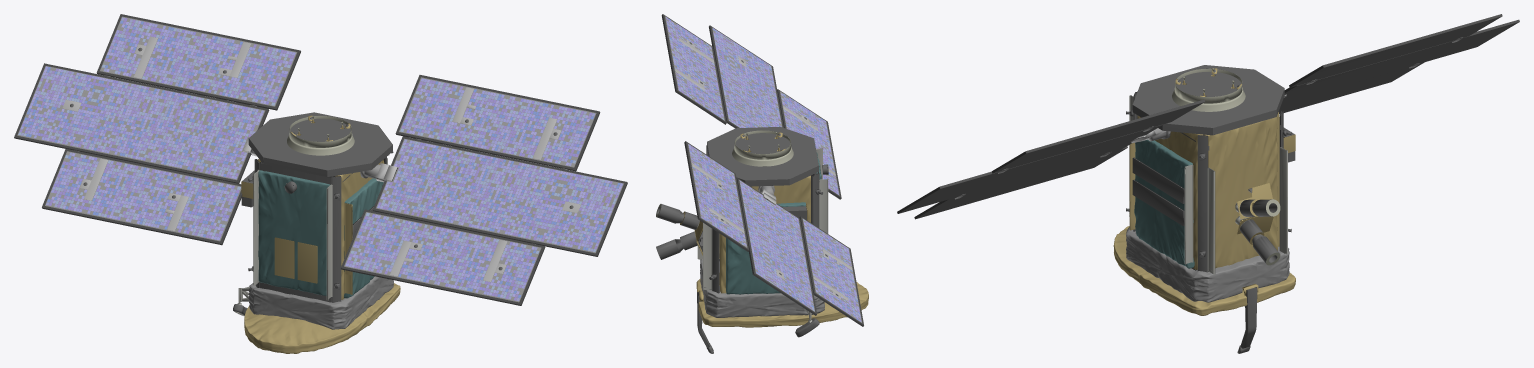
The model's file is satellite3.glb.
The picture shows the model from 3 angles, left to right: view 1: azimuth 30°, elevation 25°; view 2: azimuth 150°, elevation 25°; view 3: azimuth 270°, elevation 25°; orthographic projection. The views are drawn at different scales.
Visible parts, largest first — view 1: node_id29, node_id37, node_id35, node_id41, node_id43, node_id39, node_id26, node_id33, node_id45, node_id5, node_id14, node_id31 (+7 smaller); view 2: node_id5, node_id29, node_id37, node_id35, node_id41, node_id26, node_id43, node_id39, node_id33, node_id45, node_id7, node_id31 (+7 smaller); view 3: node_id26, node_id5, node_id12, node_id7, node_id14, node_id18, node_id10, node_id16, node_id20.
Boxes of the visible parts, x1,y1,x2,y2 form: node_id29: [17, 16, 623, 302]; node_id37: [22, 18, 617, 299]; node_id35: [20, 23, 622, 294]; node_id41: [19, 18, 618, 300]; node_id43: [21, 17, 619, 301]; node_id39: [24, 20, 620, 297]; node_id26: [14, 14, 627, 305]; node_id33: [25, 21, 621, 297]; node_id45: [18, 20, 616, 298]; node_id5: [70, 47, 573, 315]; node_id14: [258, 170, 383, 298]; node_id31: [22, 28, 611, 290]; node_id5: [656, 42, 838, 353]; node_id29: [665, 16, 861, 322]; node_id37: [666, 19, 860, 319]; node_id35: [668, 24, 859, 315]; node_id41: [666, 18, 861, 320]; node_id26: [661, 14, 863, 326]; node_id43: [666, 17, 861, 321]; node_id39: [667, 19, 859, 320]; node_id33: [667, 21, 860, 317]; node_id45: [667, 22, 860, 316]; node_id7: [700, 260, 824, 317]; node_id31: [670, 25, 856, 313]; node_id26: [897, 14, 1519, 219]; node_id5: [1126, 65, 1295, 353]; node_id12: [1137, 112, 1279, 269]; node_id7: [1126, 227, 1289, 302]; node_id14: [1134, 139, 1194, 268]; node_id18: [1129, 70, 1287, 274]; node_id10: [1113, 226, 1295, 315]; node_id16: [1129, 68, 1295, 295]; node_id20: [1172, 68, 1280, 265].
Size of the model in its own units: 0.00802 by 0.00512 by 0.0102.
